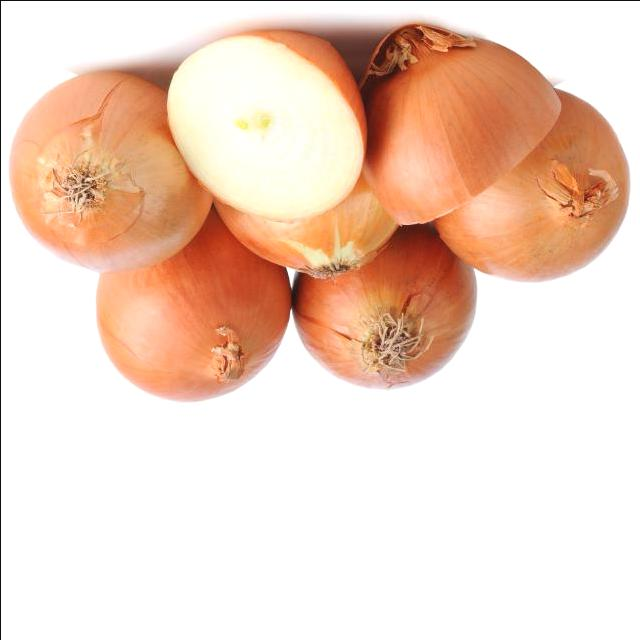onion: (366, 20, 557, 235), (433, 88, 630, 288), (16, 68, 209, 265), (164, 29, 366, 215), (95, 223, 299, 406), (292, 241, 478, 386), (212, 167, 403, 276)
